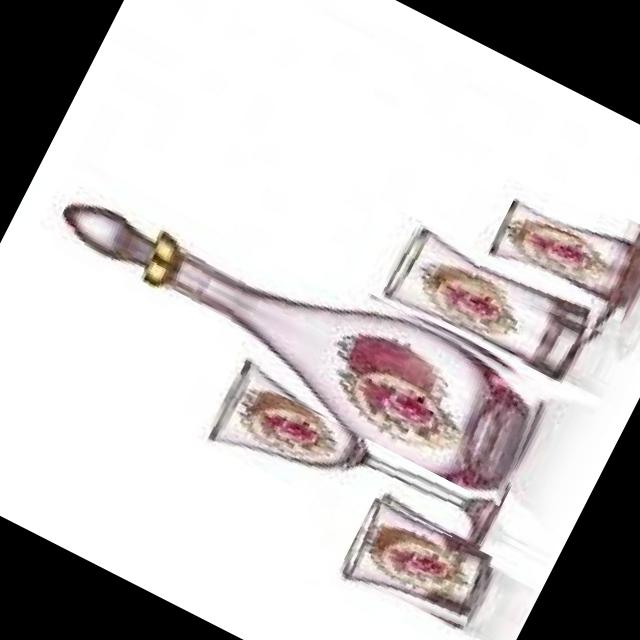Glass: (34, 146, 563, 507), (206, 348, 514, 572), (378, 222, 596, 386), (472, 168, 640, 351), (336, 497, 499, 639)
